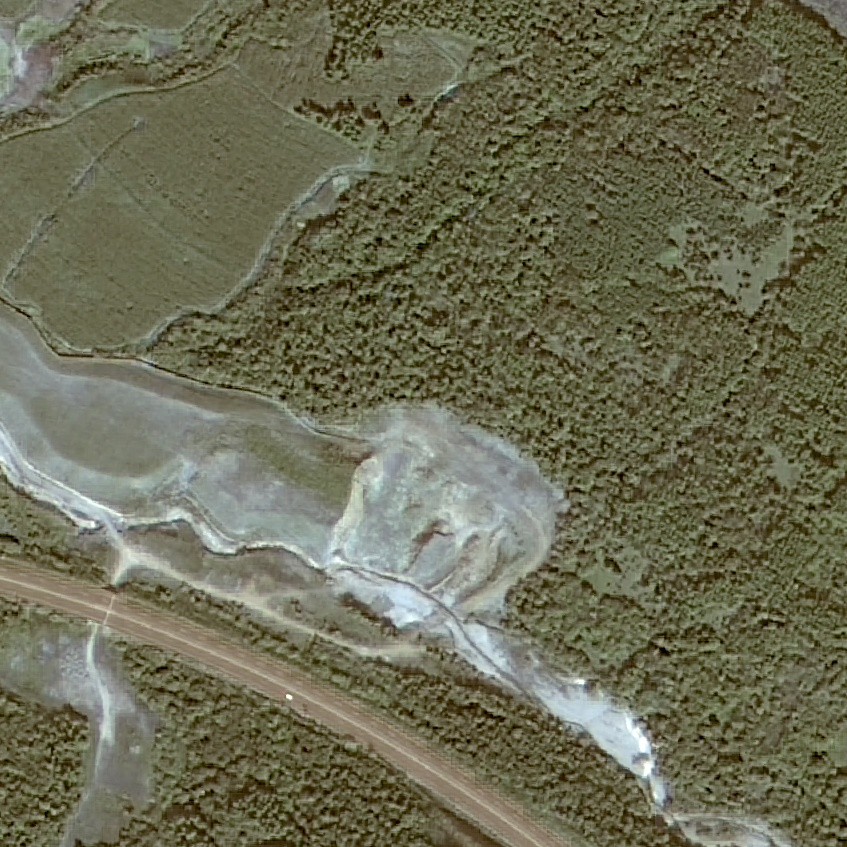slope: (327, 397, 655, 785)
